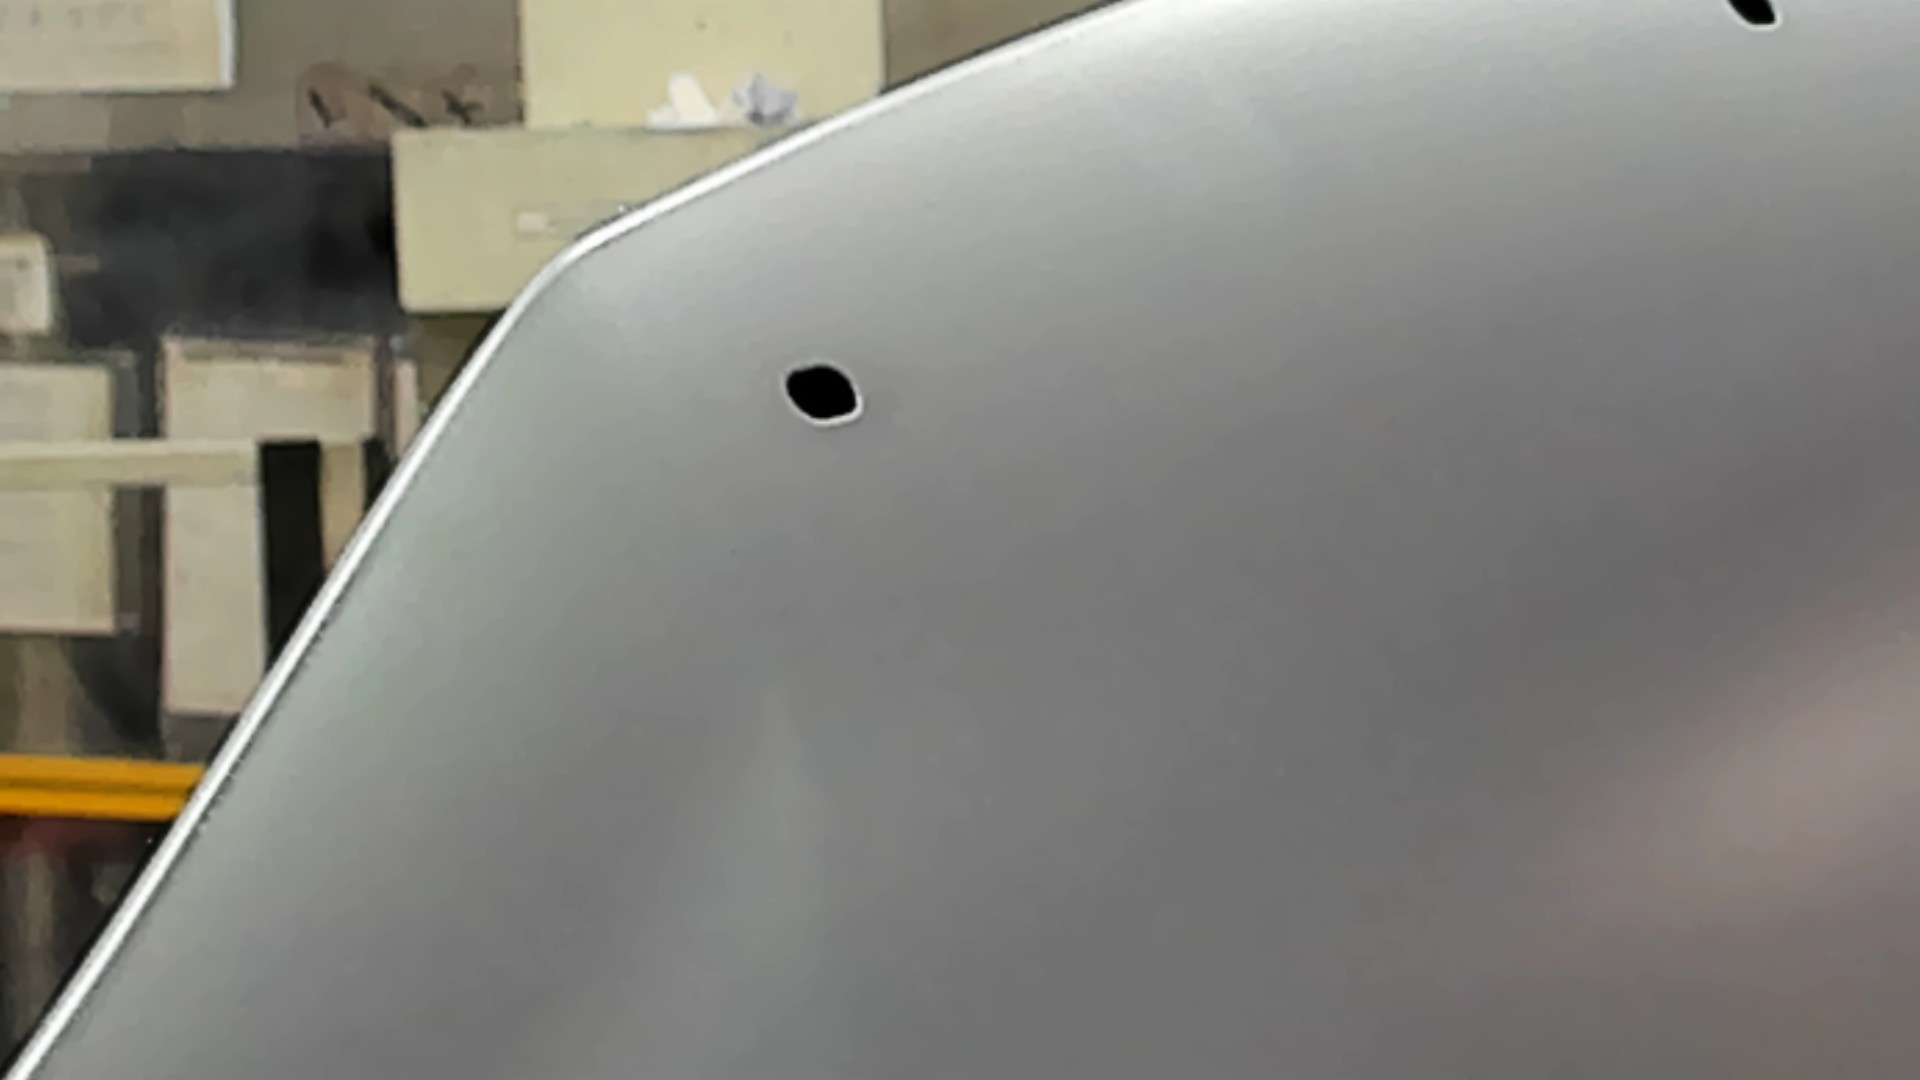amorfo: (781, 357, 864, 427), (1720, 1, 1791, 33)
